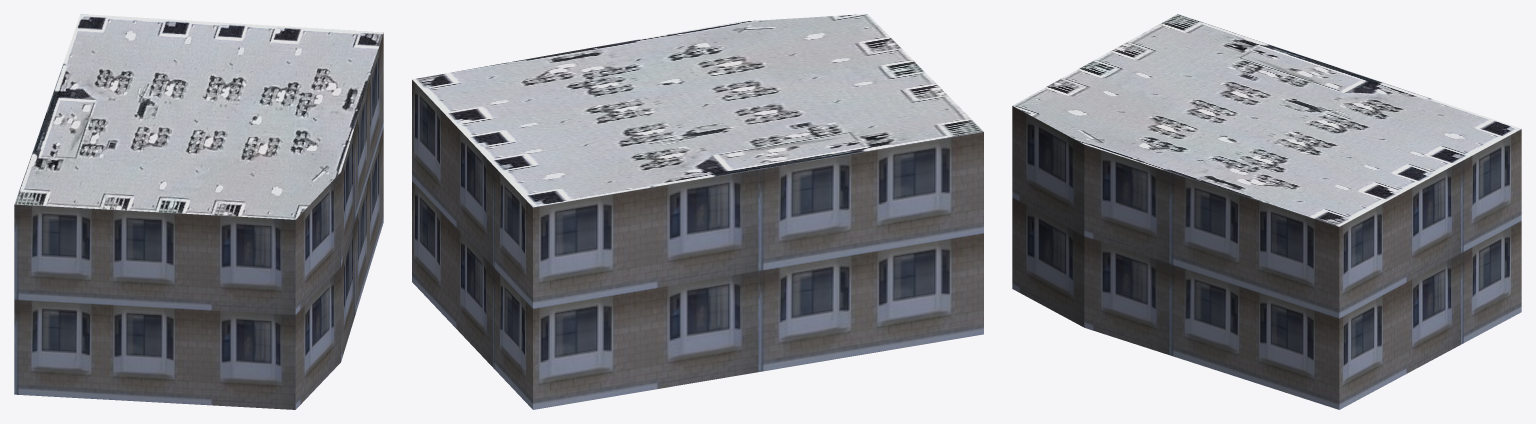
File: ResTex__2903.fbx
3 renders of one model, left to right at view 1: azimuth 30°, elevation 25°; view 2: azimuth 150°, elevation 25°; view 3: azimuth 270°, elevation 25°, orthographic. The views are drawn at different scales.
Visible parts, largest first — view 1: CityEngineMaterial_3_m, CityEngineMaterial_4_m; view 2: CityEngineMaterial_3_m, CityEngineMaterial_4_m; view 3: CityEngineMaterial_3_m, CityEngineMaterial_4_m.
Boxes of the visible parts, x1,y1,x2,y2 form: CityEngineMaterial_3_m: (14, 33, 383, 409); CityEngineMaterial_4_m: (14, 14, 383, 219); CityEngineMaterial_3_m: (412, 80, 983, 409); CityEngineMaterial_4_m: (412, 14, 983, 207); CityEngineMaterial_3_m: (1012, 106, 1521, 409); CityEngineMaterial_4_m: (1012, 14, 1520, 226).
Bounding box in the file's own units: 14.95 × 6 × 15.13.
Materials: 2 (2 with a texture image).
